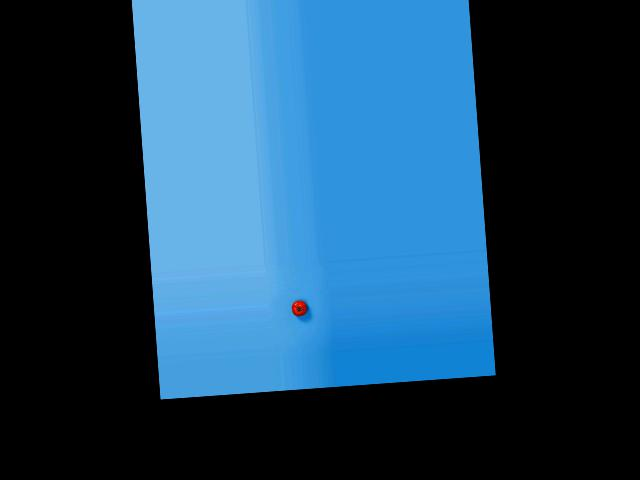tomato: (291, 300, 307, 317)
